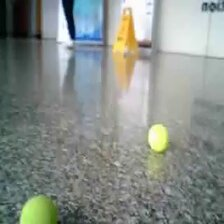tennis: (19, 194, 57, 224), (147, 124, 171, 152)
